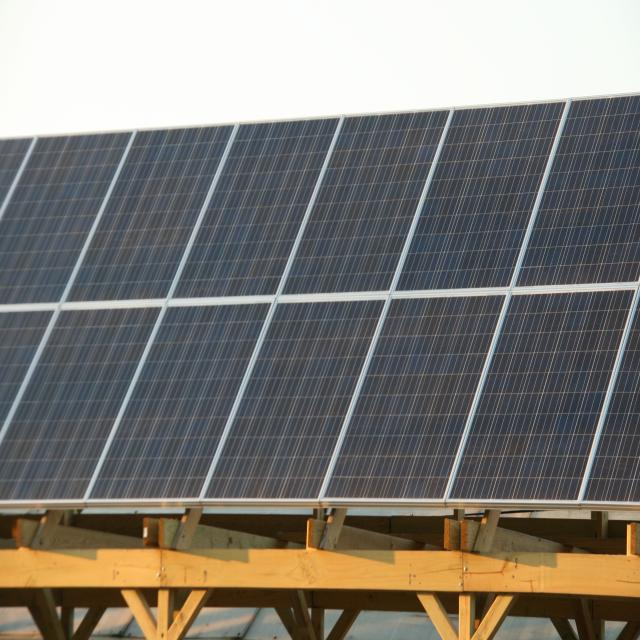clean-solar-panel: (0, 96, 640, 510)
